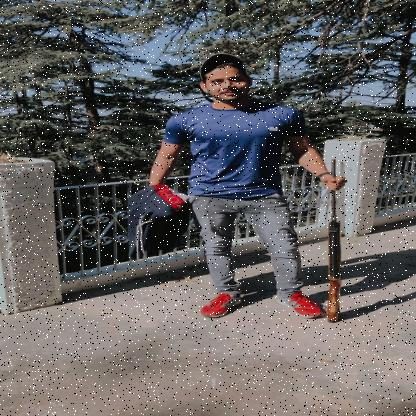rifle: (323, 158, 345, 324)
